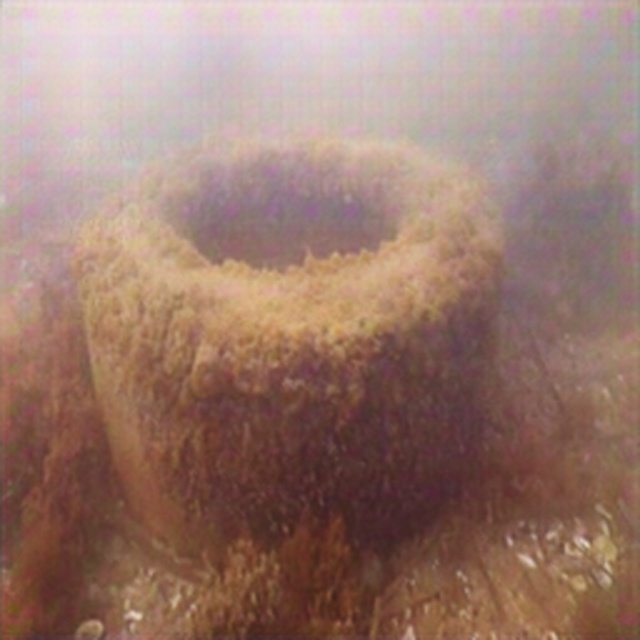mine: (81, 126, 499, 581)
